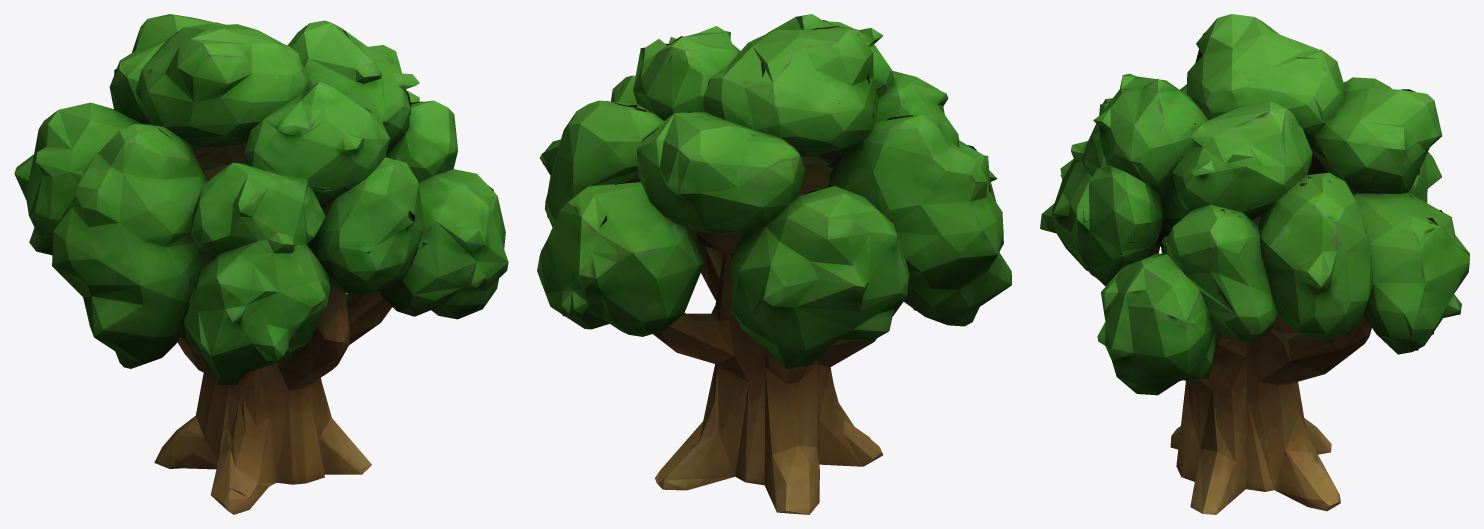
The model's file is tree_leafy.glb.
The picture shows the model from 3 angles, left to right: view 1: azimuth 30°, elevation 25°; view 2: azimuth 150°, elevation 25°; view 3: azimuth 270°, elevation 25°; orthographic projection. The views are drawn at different scales.
Parts seen in each view (by area): view 1: geometry_0; view 2: geometry_0; view 3: geometry_0.
Part boxes in pixels (bbox=[...]): geometry_0: bbox=[14, 14, 508, 514]; geometry_0: bbox=[537, 14, 1011, 514]; geometry_0: bbox=[1040, 14, 1469, 514].
Bounding box in the file's own units: 0.9661 × 0.9955 × 0.8998.
1 material, 1 textured.
